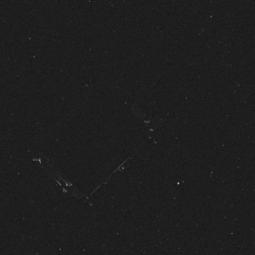proba_2: (54, 97, 147, 200)
